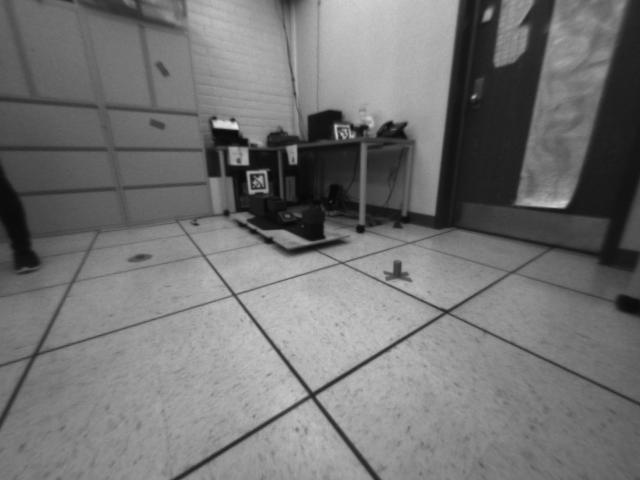X: (381, 259, 415, 284)
